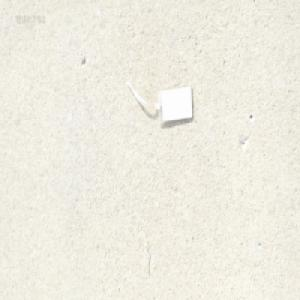LuggageTag: (124, 67, 193, 125)
